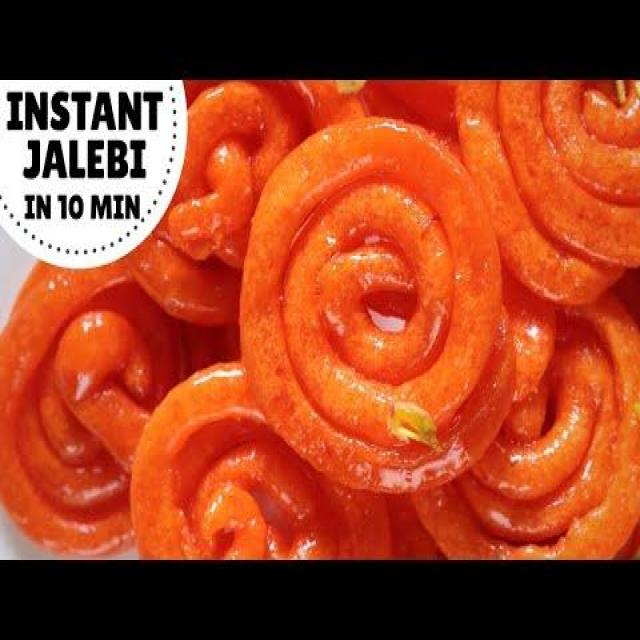jalebi: (13, 111, 623, 551)
